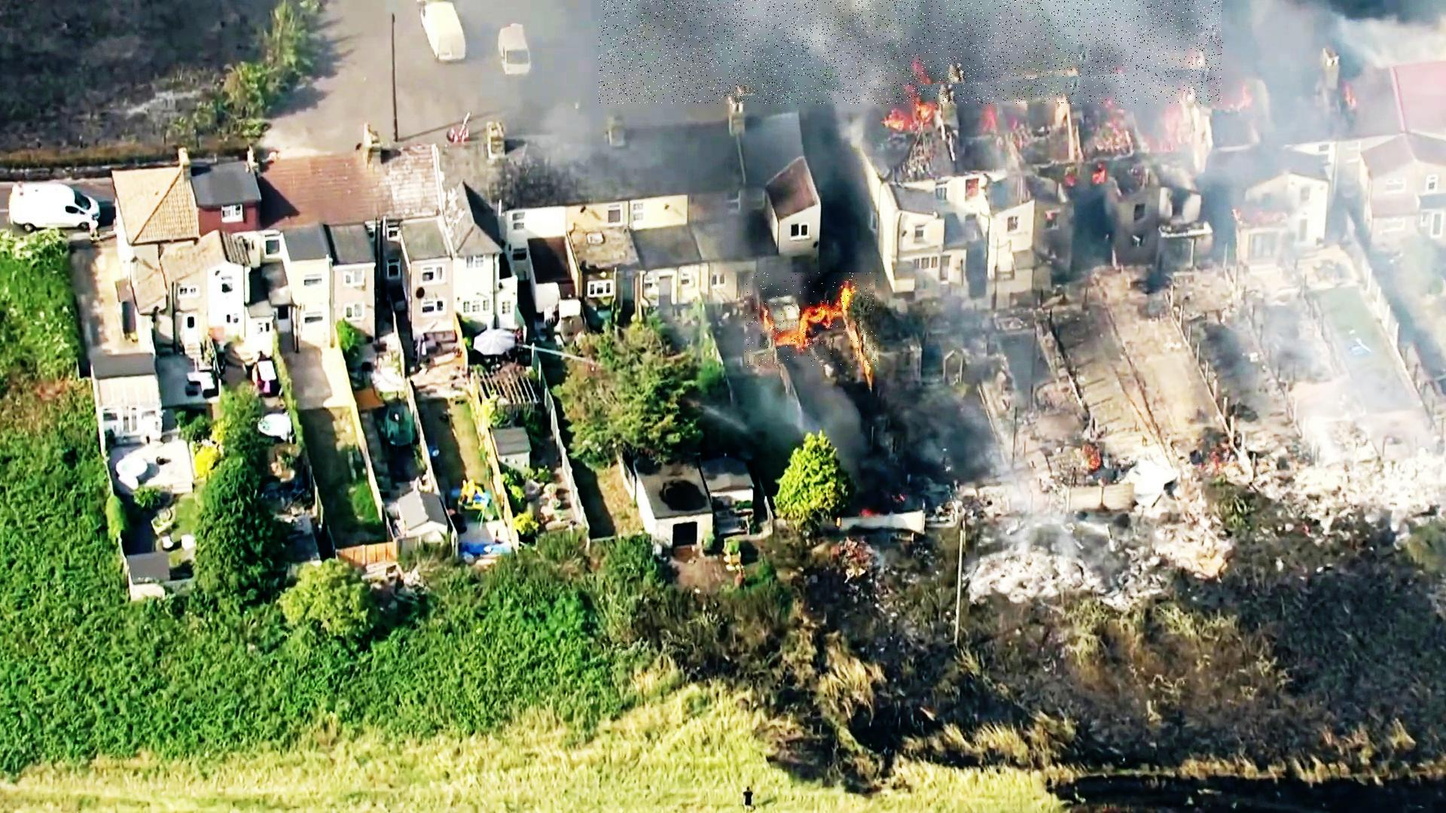fire: (745, 273, 878, 368)
smoke: (599, 0, 1224, 104)
